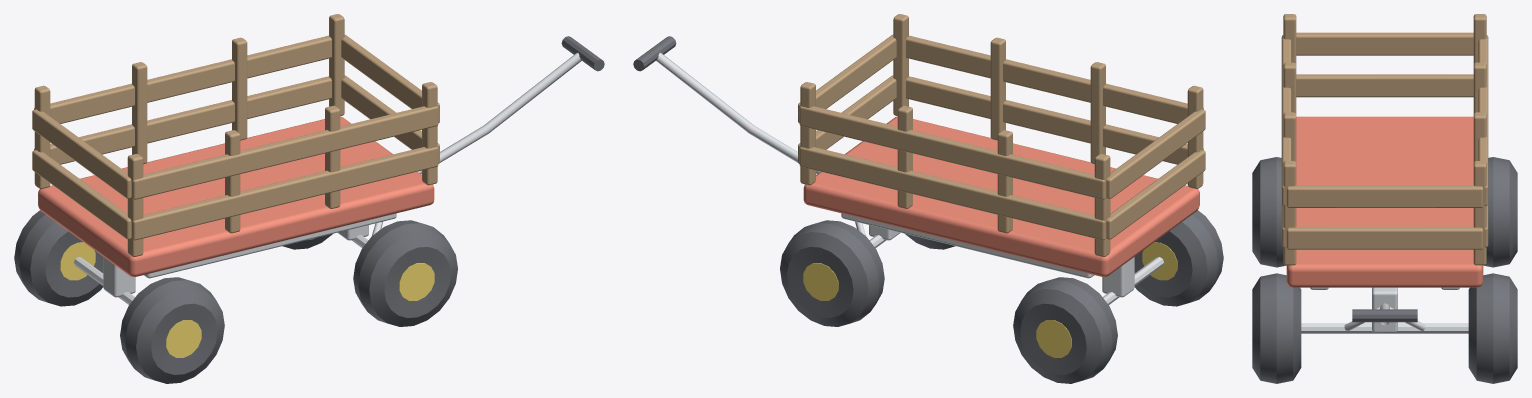
The model's file is beach-surf-and-paddle-kit-beach-gear-wagon-fb9f4cd8.glb.
3 views of the same model, side by side, from view 1: azimuth 30°, elevation 25°; view 2: azimuth 150°, elevation 25°; view 3: azimuth 270°, elevation 25° (orthographic). The views are drawn at different scales.
Visible parts, largest first — view 1: beach-gear-wagon-timber, beach-gear-wagon-charcoal, beach-gear-wagon-coral, beach-gear-wagon-steel, beach-gear-wagon-sun; view 2: beach-gear-wagon-timber, beach-gear-wagon-charcoal, beach-gear-wagon-coral, beach-gear-wagon-steel, beach-gear-wagon-sun; view 3: beach-gear-wagon-timber, beach-gear-wagon-coral, beach-gear-wagon-charcoal, beach-gear-wagon-steel.
Part boxes in pixels (x1,y1,x2,y2): beach-gear-wagon-timber: (32, 14, 439, 256); beach-gear-wagon-charcoal: (14, 36, 604, 383); beach-gear-wagon-coral: (38, 116, 434, 276); beach-gear-wagon-steel: (73, 53, 581, 304); beach-gear-wagon-sun: (60, 242, 434, 357); beach-gear-wagon-timber: (798, 14, 1205, 256); beach-gear-wagon-charcoal: (633, 36, 1223, 383); beach-gear-wagon-coral: (803, 116, 1199, 276); beach-gear-wagon-steel: (656, 53, 1164, 304); beach-gear-wagon-sun: (803, 242, 1177, 357); beach-gear-wagon-timber: (1281, 14, 1488, 265); beach-gear-wagon-coral: (1286, 116, 1483, 287); beach-gear-wagon-charcoal: (1252, 157, 1517, 383); beach-gear-wagon-steel: (1301, 287, 1468, 333).
Bounding box in the file's own units: 1.86 × 0.78 × 0.81.
